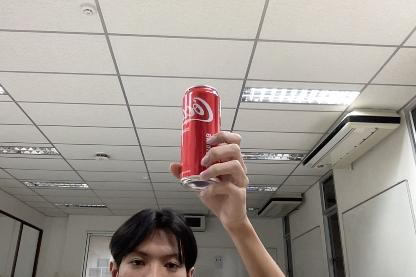Can: (180, 82, 223, 191)
